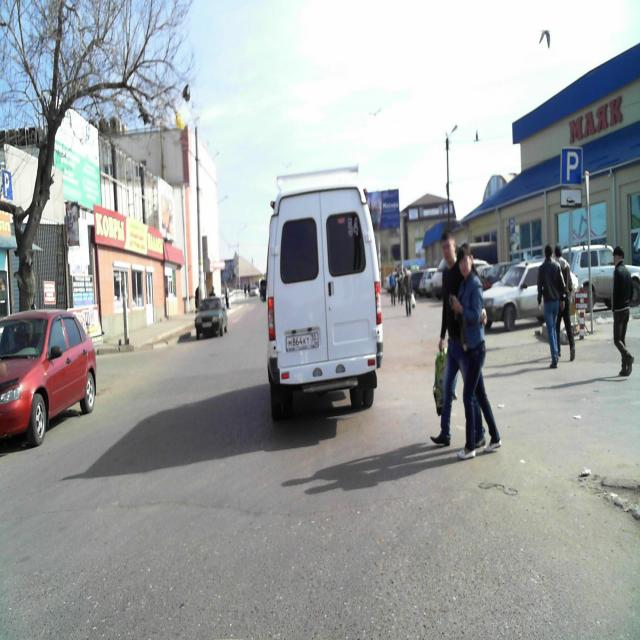road sign: (560, 147, 582, 186), (561, 188, 582, 207)
